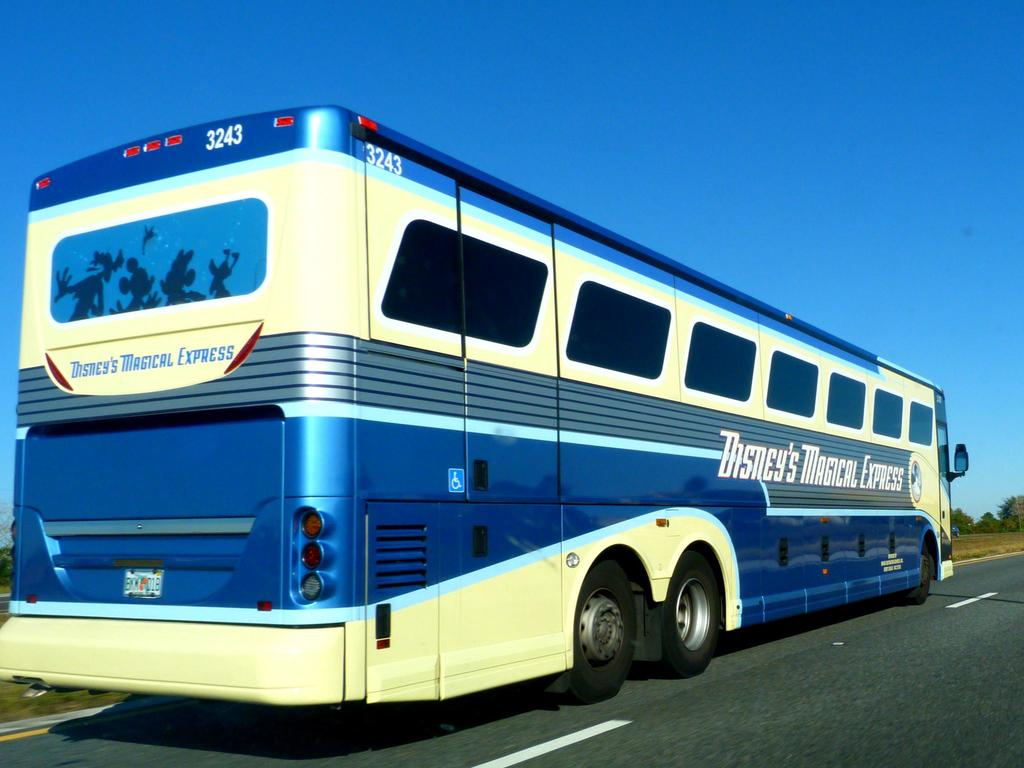Bus: (0, 104, 968, 710)
